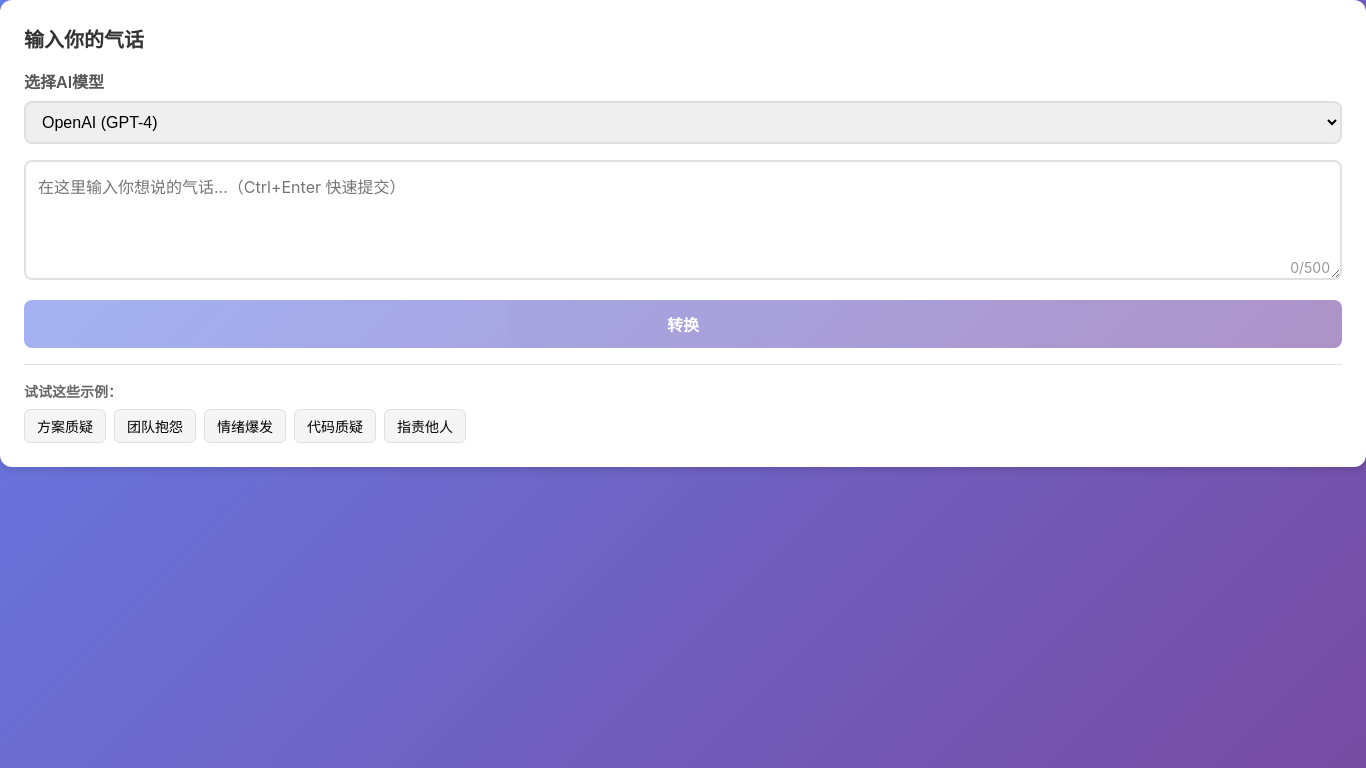
Test: InputSection › input handling › updates character count when typing
This screenshot has width=1366, height=768.
Expected: the text "0/500" is shown, [1290,259,1330,276]
Type "我很生气" into the text box with placeholder "在这里输入你想说的气话...（Ctrl+Enter 快速提交）" at (683, 220), box [24,160,1342,280]
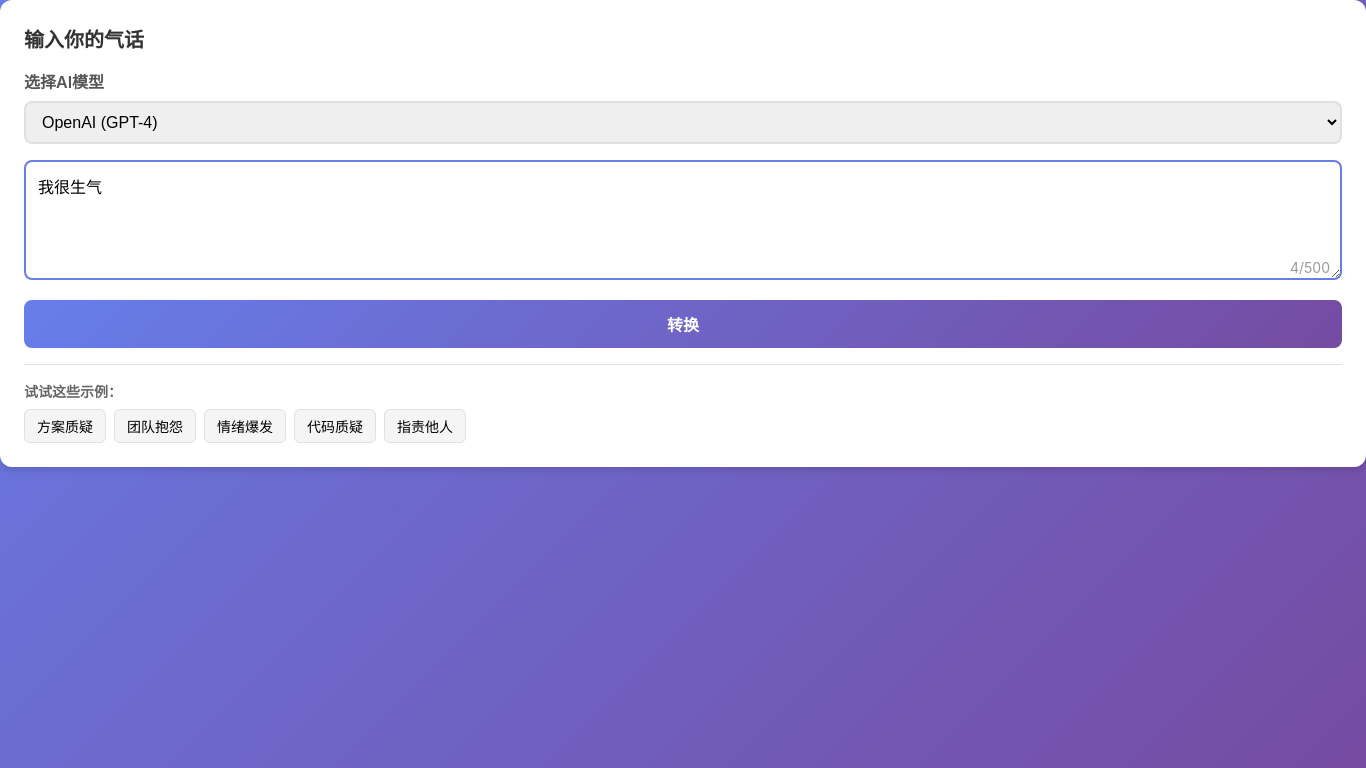
Now the text "4/500" is shown, box [1290,259,1330,276]
